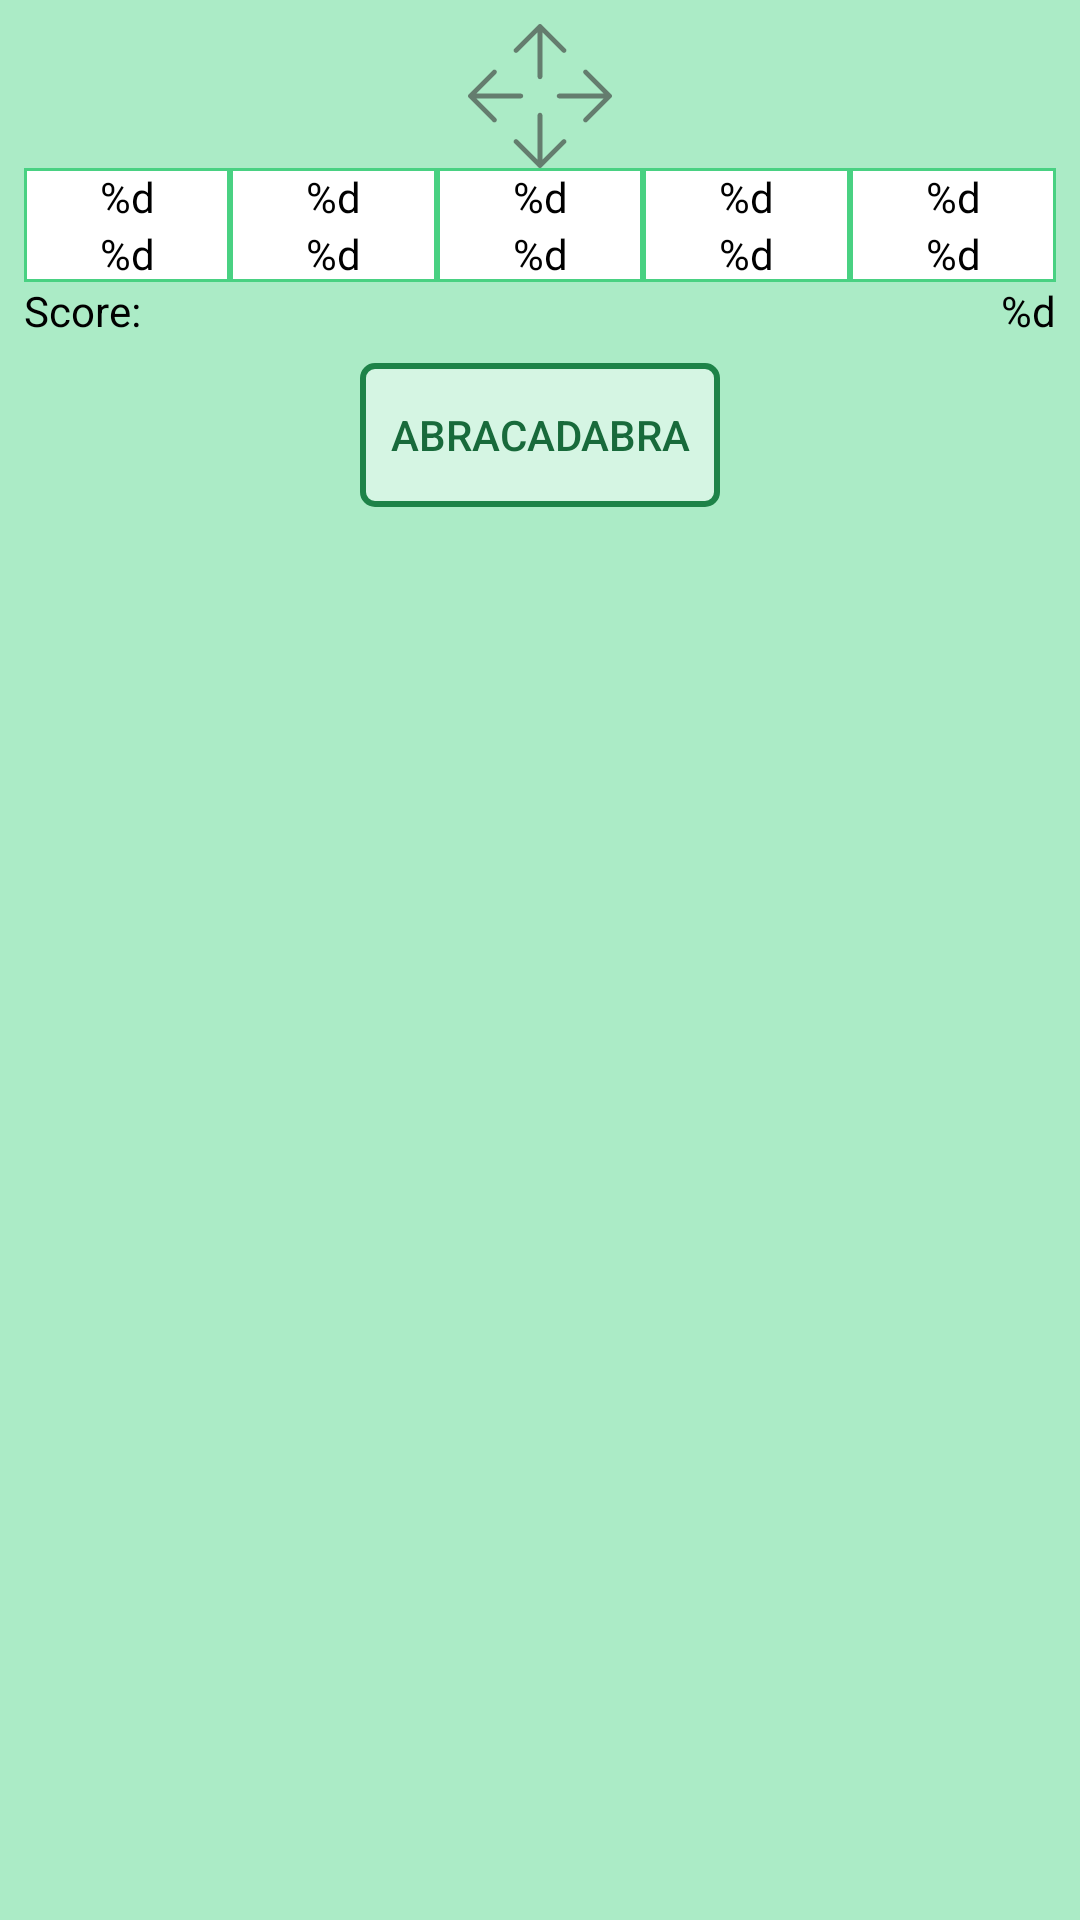

Icons on this 1080 × 1920 Android screen, each with its box as (x1, y1, x2, y2):
Icon to move widget: (468, 24, 612, 123)
